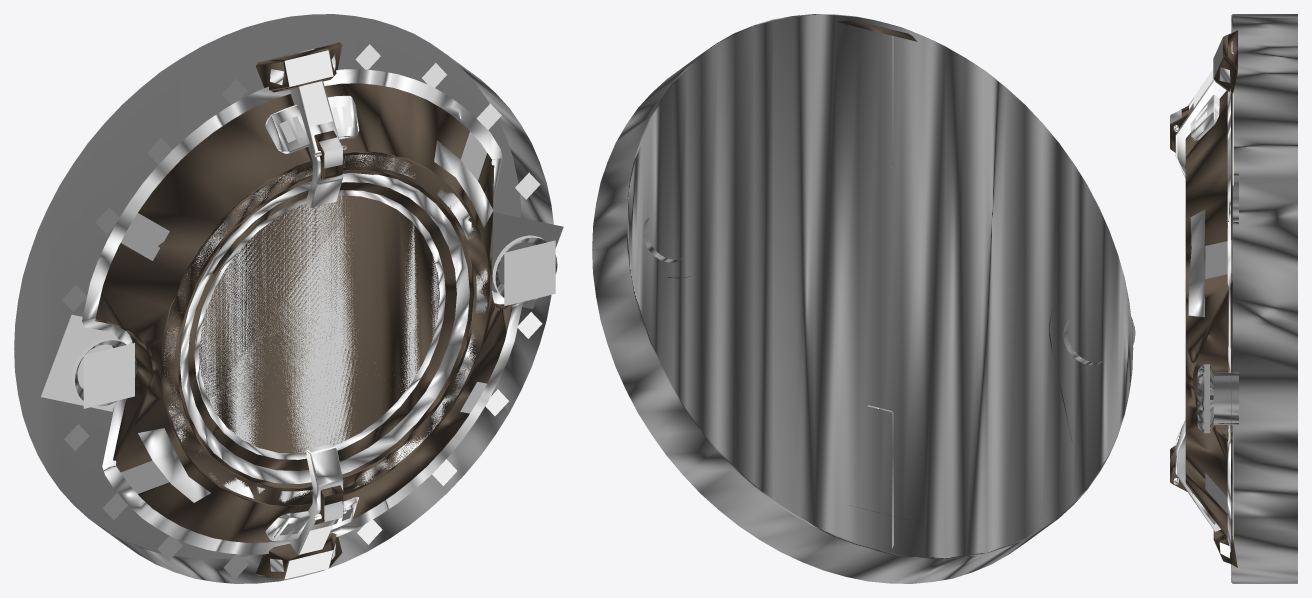
Rendered from Cable_coil_bracket_thin.glb.
3 views of the same model, side by side, from view 1: azimuth 30°, elevation 25°; view 2: azimuth 150°, elevation 25°; view 3: azimuth 270°, elevation 25° (orthographic). The views are drawn at different scales.
Bounding box in the file's own units: 3.73 × 3.62 × 0.8129.
